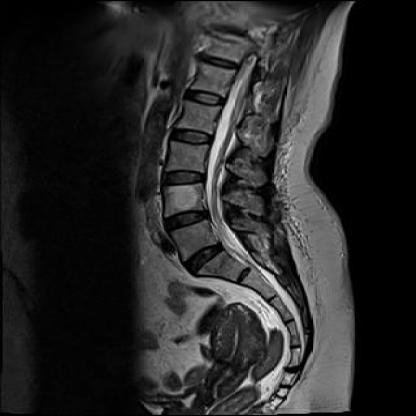Disc Relaxationrotation: (157, 206, 215, 232)
